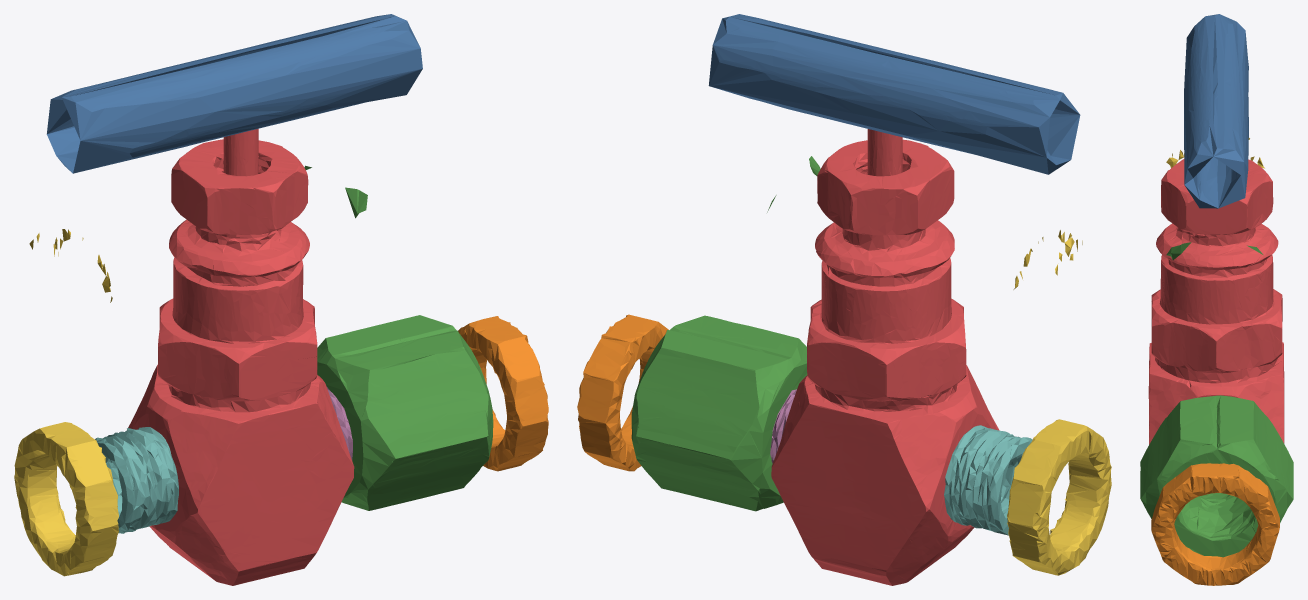
File: valve_partcrafter_assembled.glb
3 renders of one model, left to right at view 1: azimuth 30°, elevation 25°; view 2: azimuth 150°, elevation 25°; view 3: azimuth 270°, elevation 25°, orthographic. The views are drawn at different scales.
Parts seen in each view (by area): view 1: part_02, part_00, part_04, part_05, part_01, part_03; view 2: part_02, part_00, part_04, part_05, part_01, part_03; view 3: part_02, part_04, part_00, part_01.
Part boxes in pixels (x1,y1,x2,y2): part_02: [128, 128, 354, 585]; part_00: [46, 14, 422, 173]; part_04: [304, 165, 493, 510]; part_05: [14, 229, 118, 576]; part_01: [458, 316, 548, 471]; part_03: [95, 427, 178, 533]; part_02: [771, 129, 999, 585]; part_00: [708, 14, 1080, 174]; part_04: [631, 156, 820, 511]; part_05: [1007, 230, 1111, 575]; part_01: [577, 314, 668, 471]; part_03: [944, 425, 1032, 535]; part_02: [1148, 159, 1284, 444]; part_04: [1140, 242, 1293, 557]; part_00: [1184, 14, 1248, 208]; part_01: [1151, 463, 1279, 585].
Bounding box in the file's own units: 0.978 × 1 × 0.3332.
